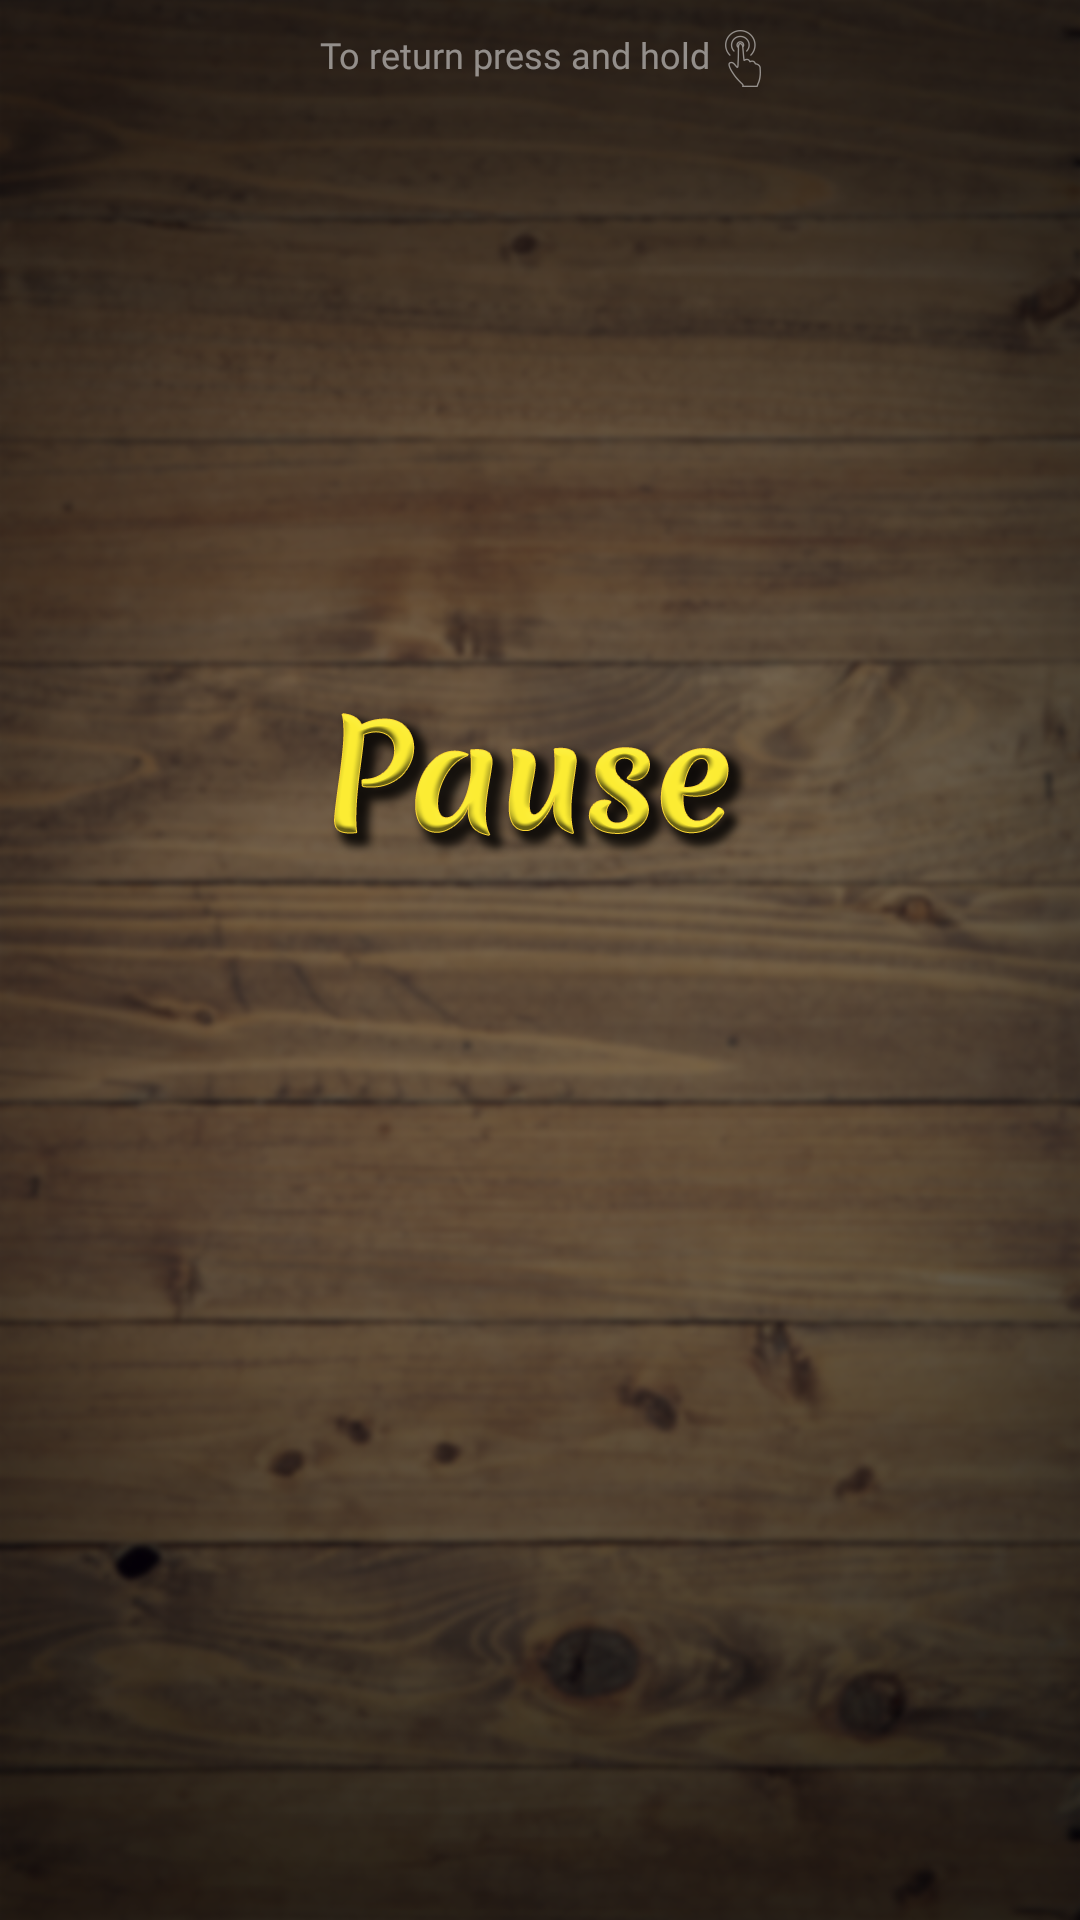

Screen size 1080x1920. Icon name, then its box in pixels as region(x1, y1, x2, y2):
touch: region(725, 30, 761, 87)
